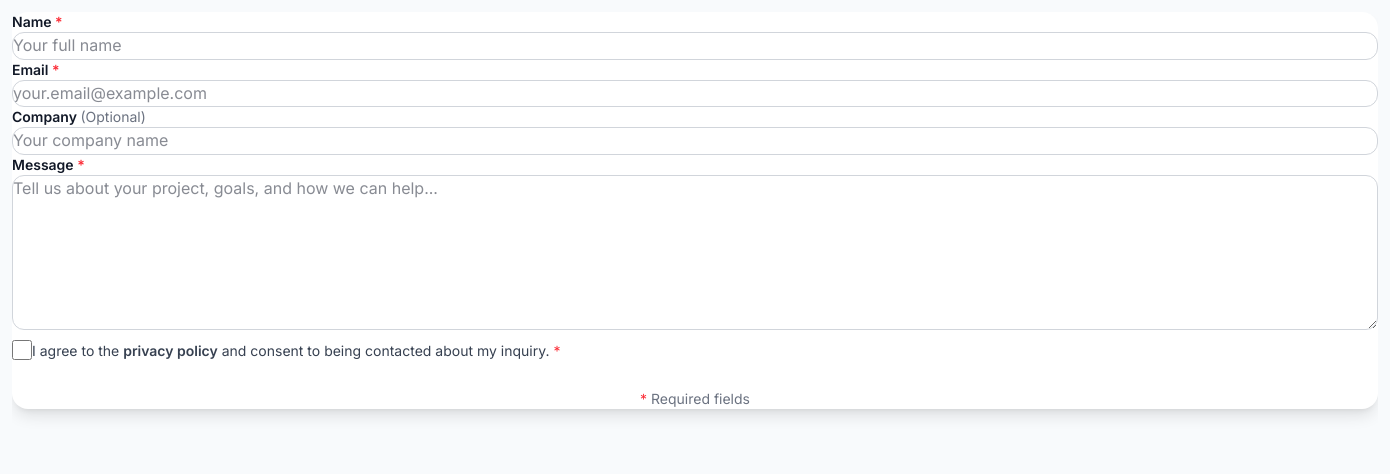
Scenario: ContactForm › displays error message when API returns error
// Fill in form
Type "John Doe" into the field labelled "Name *" at (695, 46), box [12, 32, 1378, 60]
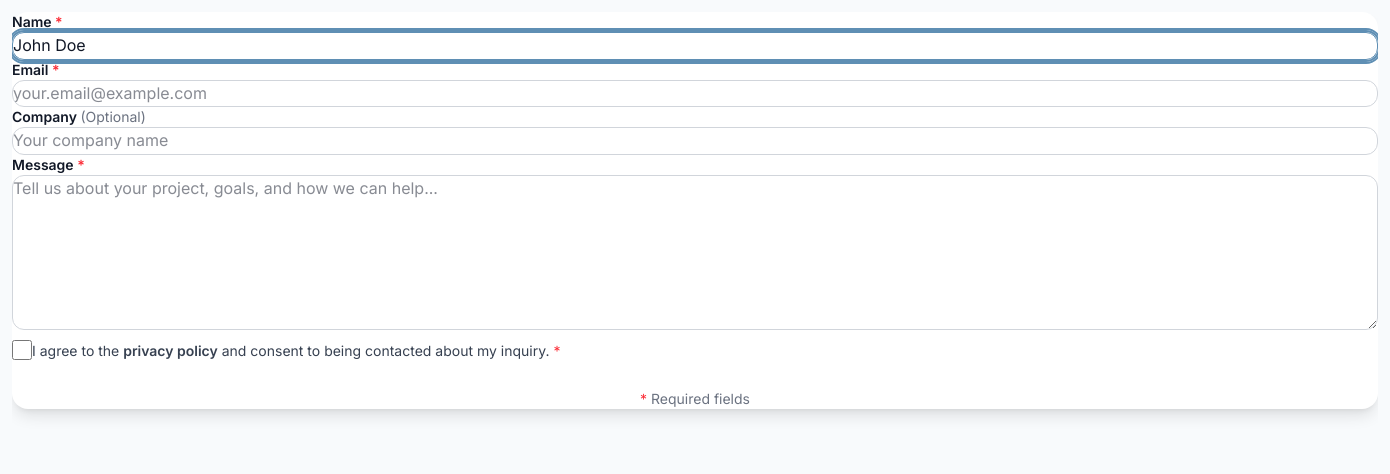
Type "john@example.com" into the field labelled "Email *" at (695, 93), box [12, 80, 1378, 107]
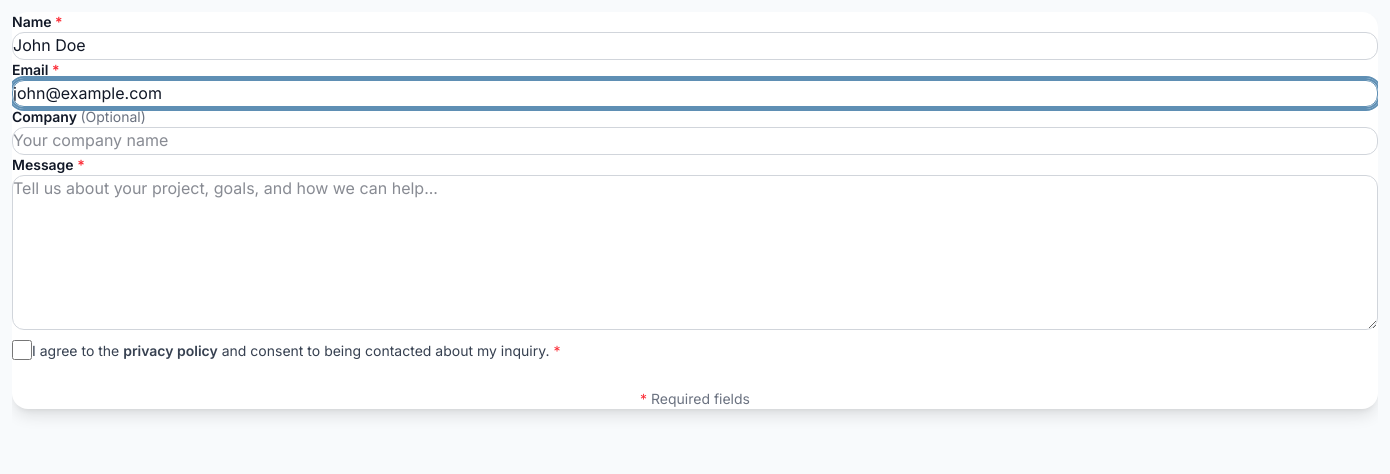
Type "This is a test message" into the text box labelled "Message *" at (695, 253), box [12, 175, 1378, 330]
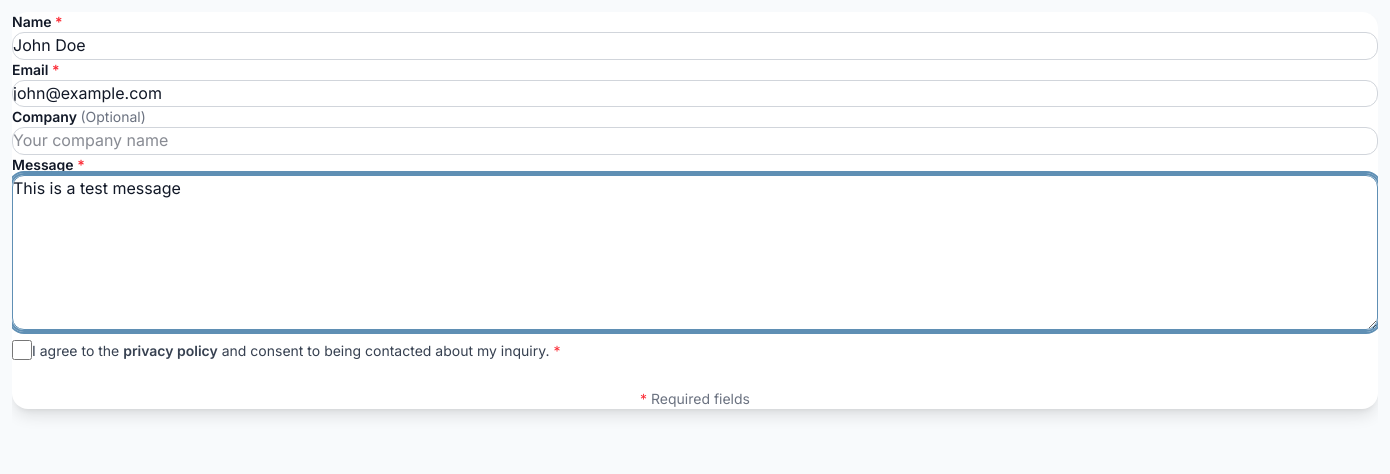
Click the checkbox labelled "privacy policy" at (22, 350), box [12, 340, 32, 360]
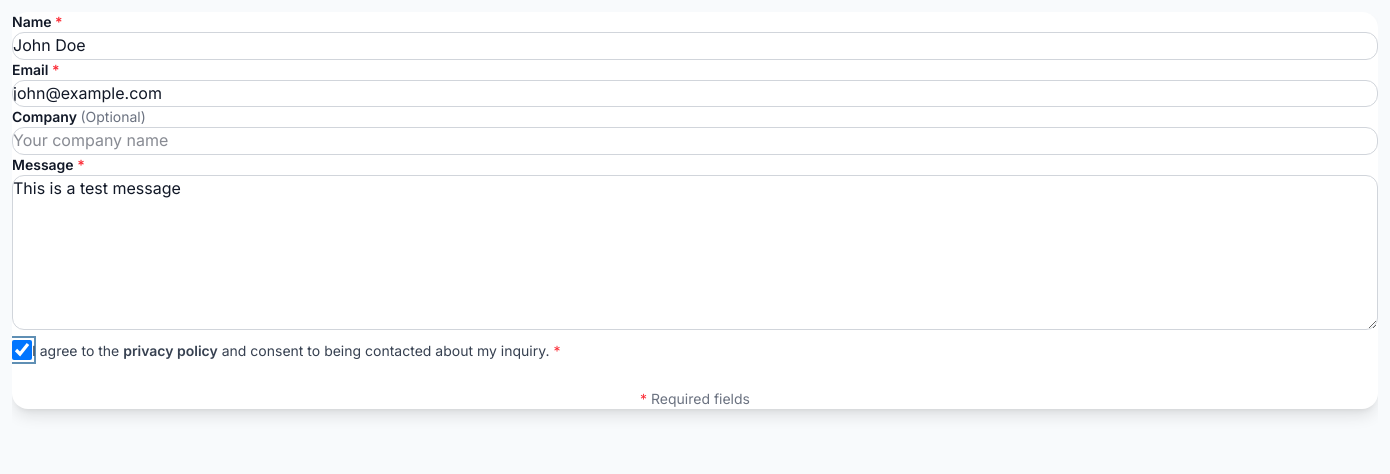
// Submit form
Click the button "Send Message" at (695, 376), box [12, 364, 1378, 389]
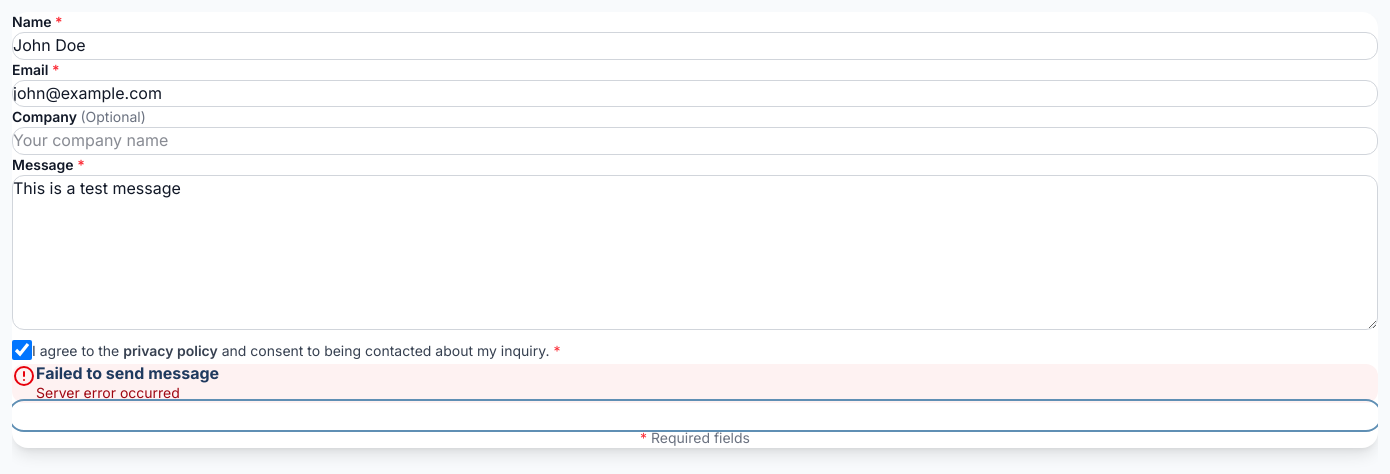
Check: the text "Server error occurred" is shown, box [36, 384, 180, 401]
